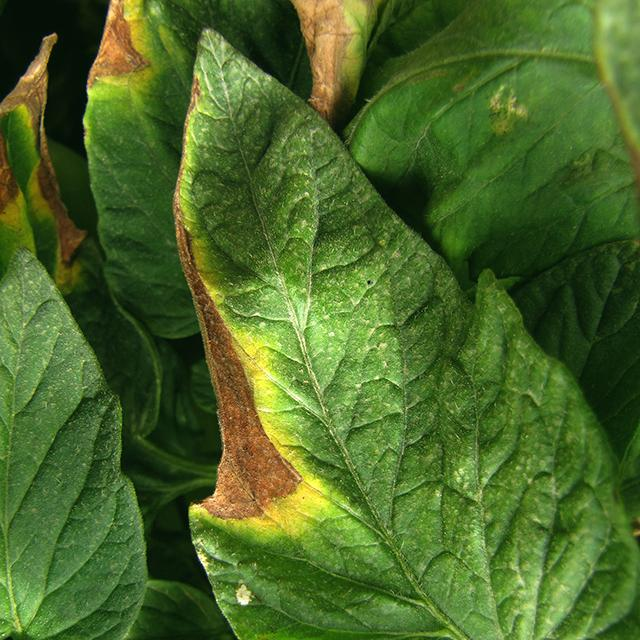Tomato leaf bacterial spot: (170, 25, 627, 640)
